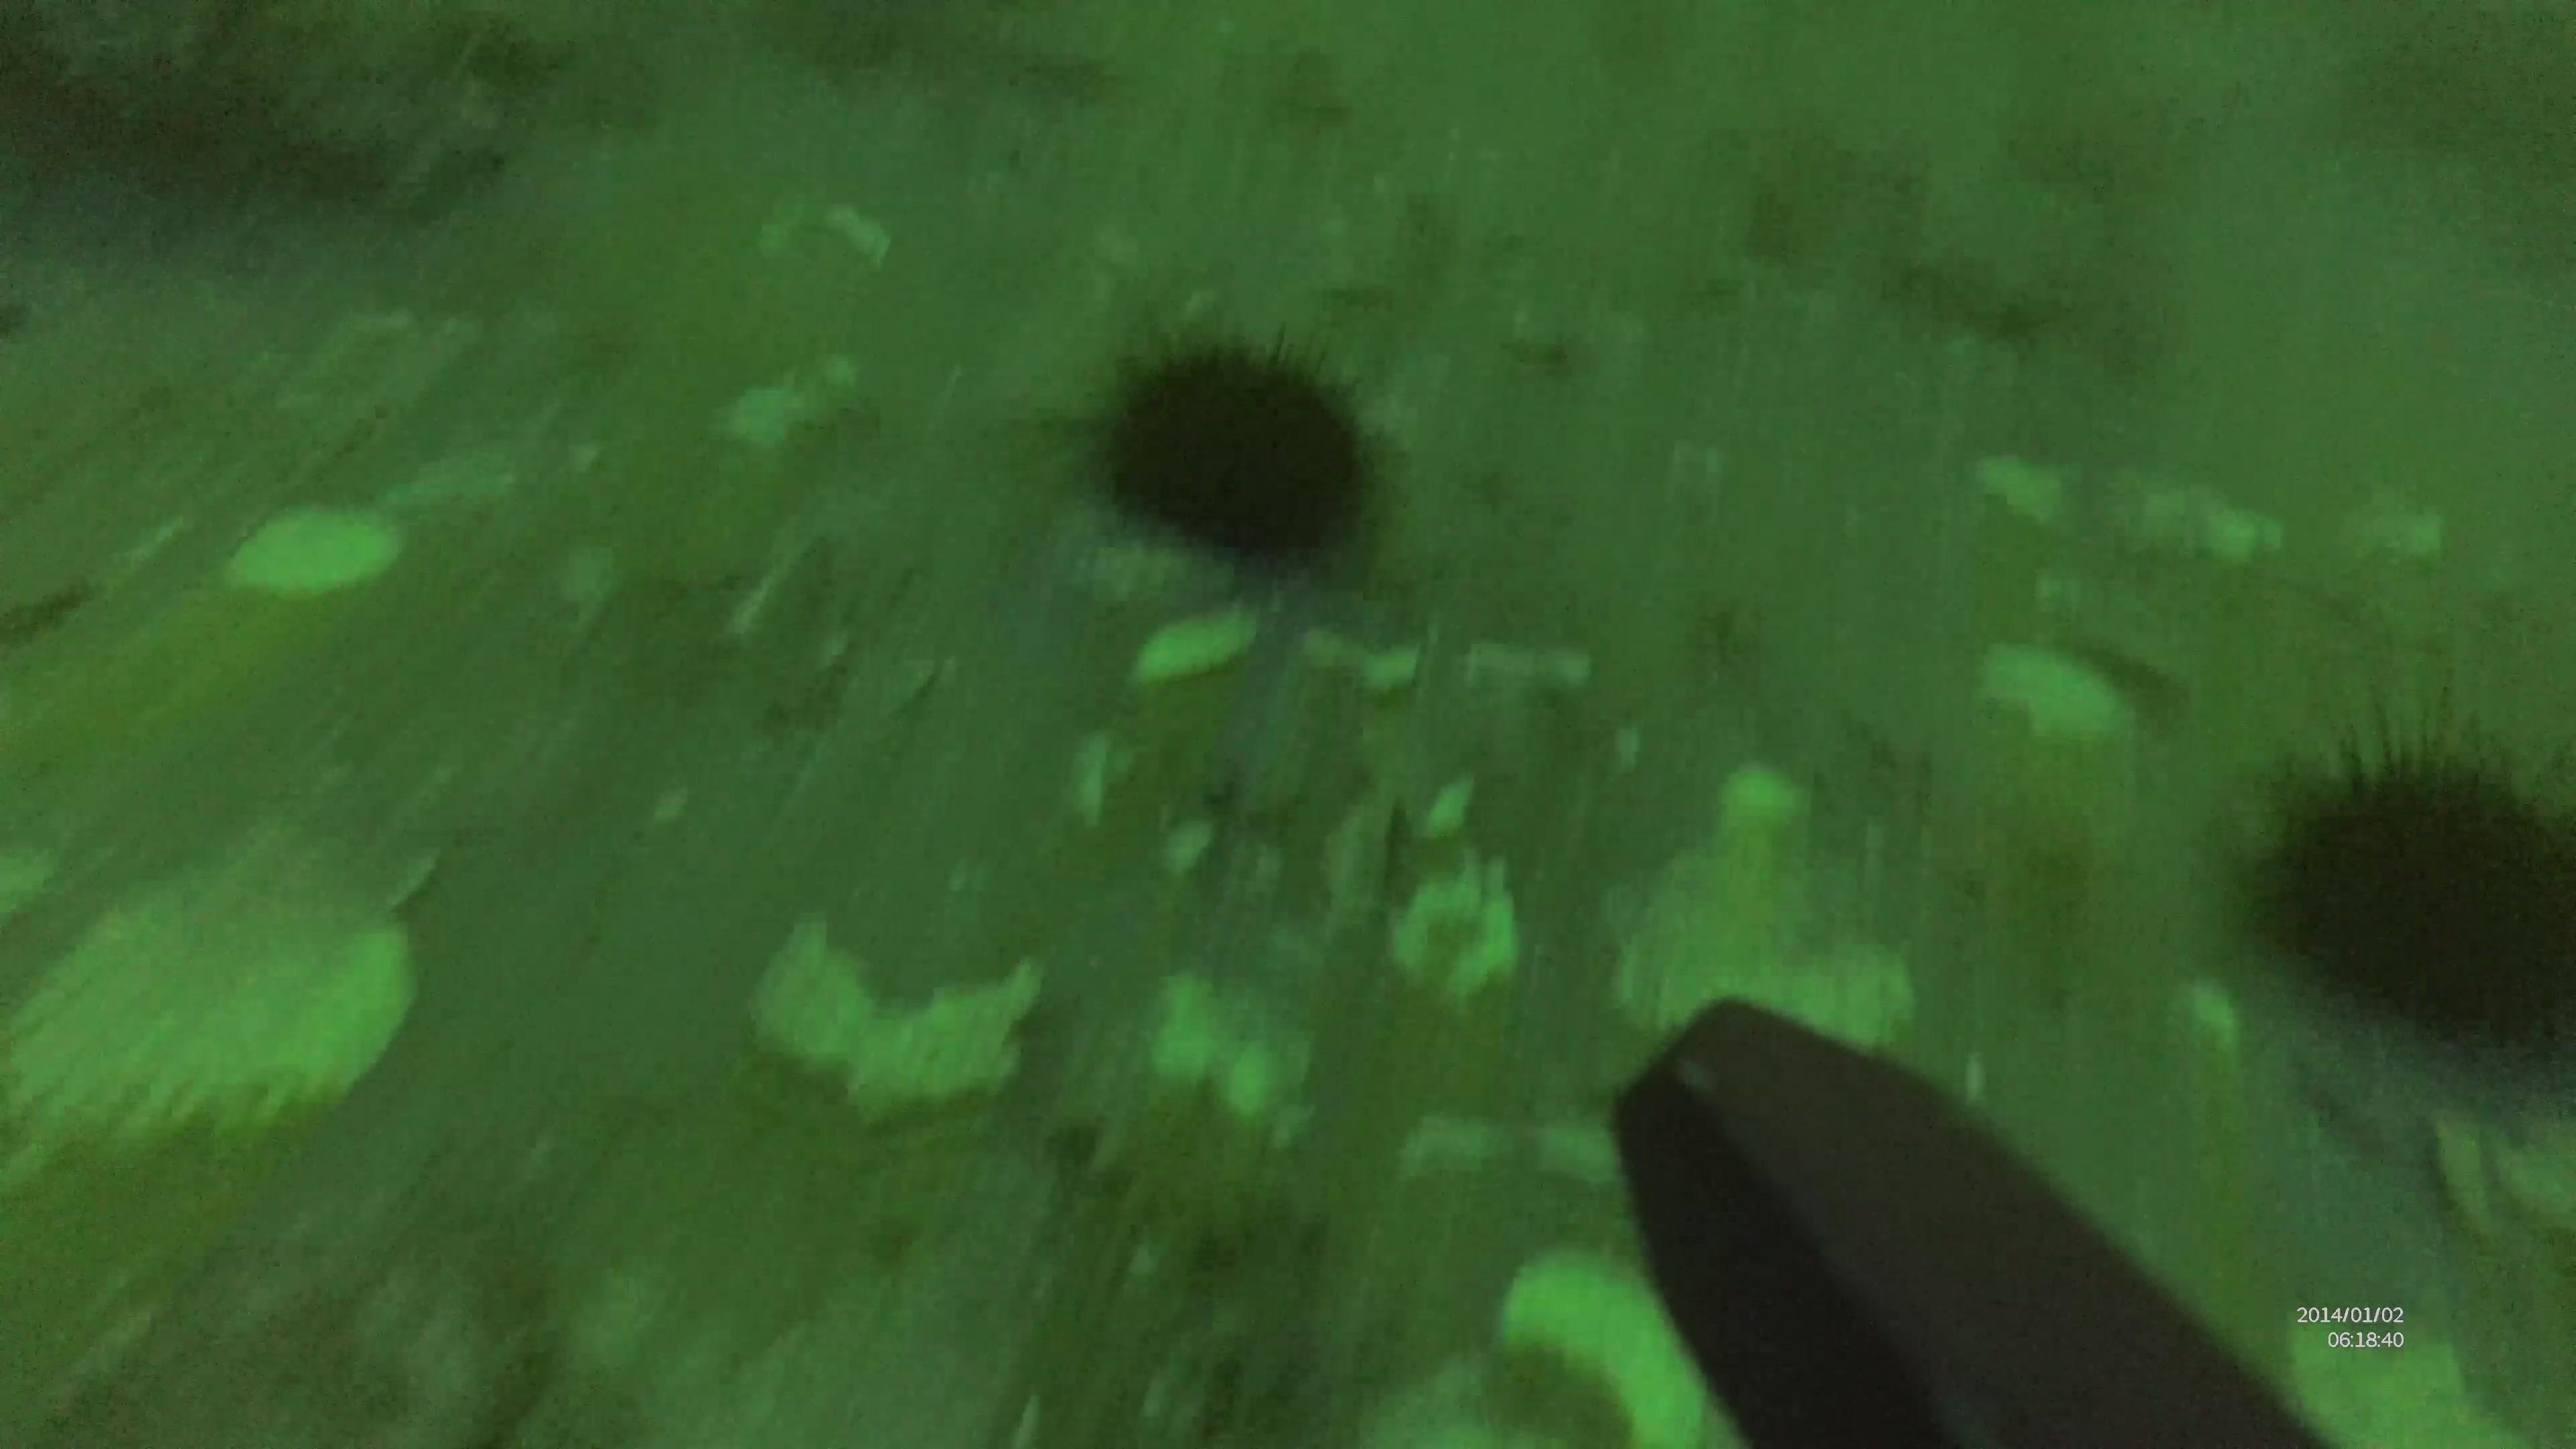echinus: (2217, 667, 2576, 1129), (1053, 317, 1410, 570)
scallop: (0, 821, 433, 1169), (747, 911, 1046, 1138)
